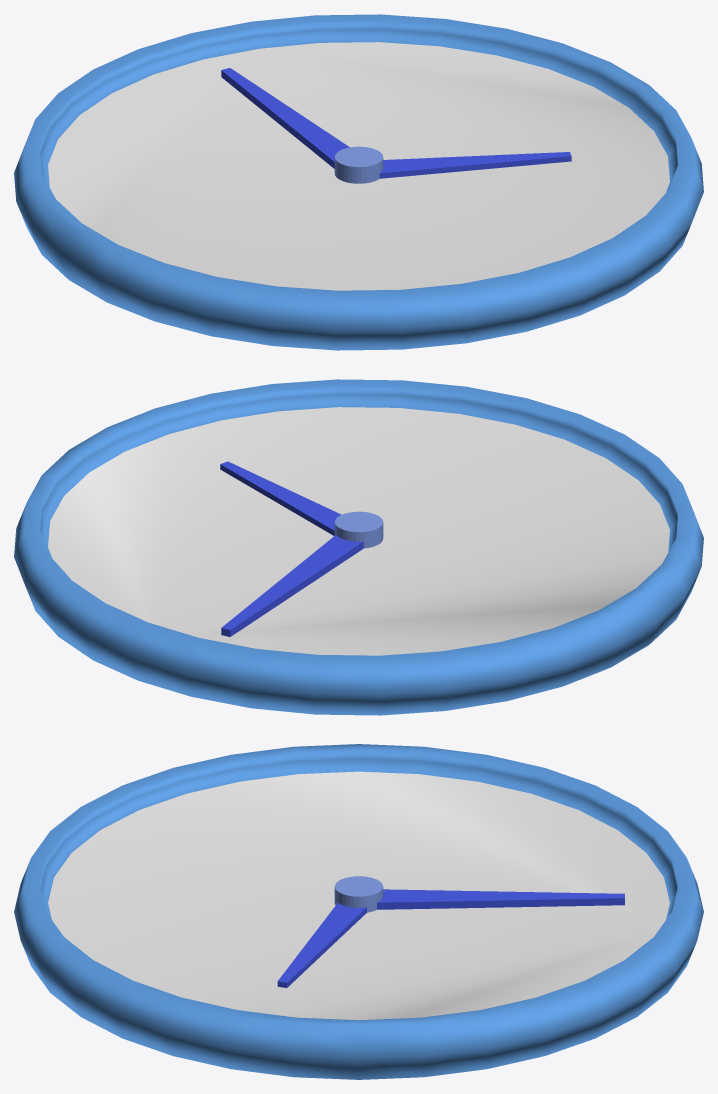
File: clock3.fbx
3 views of the same model, one above another, from view 1: azimuth 30°, elevation 25°; view 2: azimuth 150°, elevation 25°; view 3: azimuth 270°, elevation 25° (orthographic).
Visible parts, largest first — view 1: Cube, Cylinder; view 2: Cube, Cylinder; view 3: Cube, Cylinder.
Part boxes in pixels (box(x1,y1,x2,y2)): Cube: box(14, 14, 703, 350); Cylinder: box(334, 146, 383, 183); Cube: box(14, 379, 703, 715); Cylinder: box(334, 511, 383, 548); Cube: box(14, 744, 703, 1079); Cylinder: box(334, 876, 383, 912).
Bounding box in the file's own units: 206 × 17.61 × 206.
